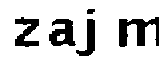a: (47, 18, 78, 49)
j: (74, 7, 104, 57)
m: (112, 14, 160, 51)
z: (12, 17, 40, 52)
